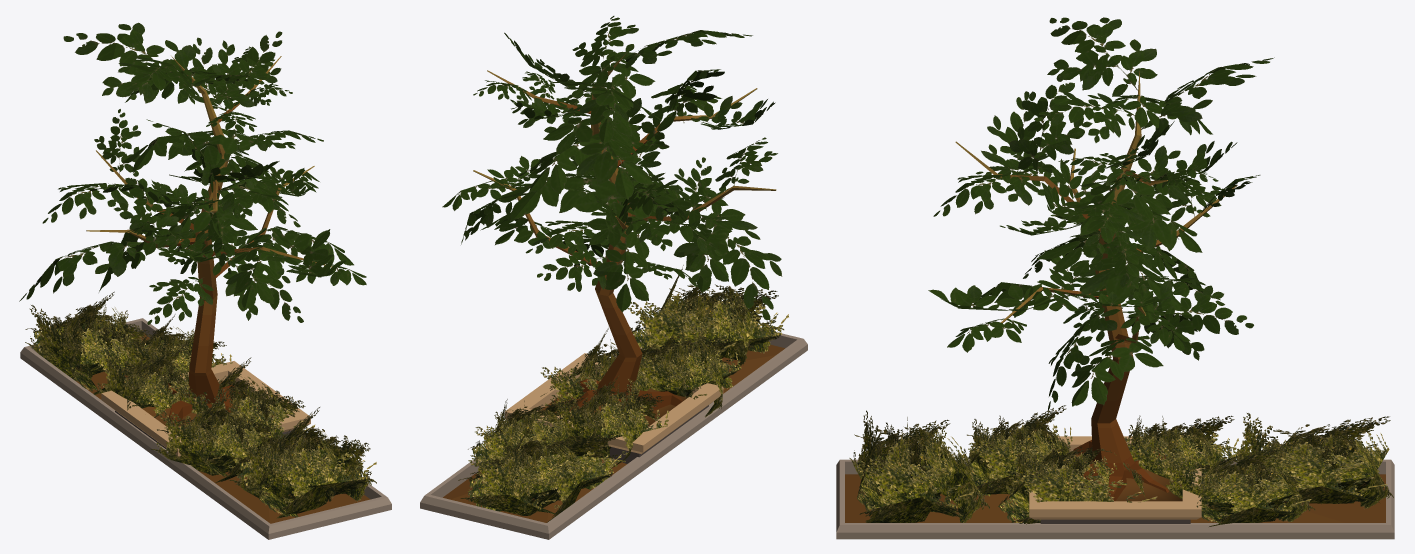
Rendered from Tree&Bush.fbx.
3 renders of one model, left to right at view 1: azimuth 30°, elevation 25°; view 2: azimuth 150°, elevation 25°; view 3: azimuth 270°, elevation 25°, orthographic. The views are drawn at different scales.
Parts seen in each view (by area): view 1: Tree, Bushes01; view 2: Tree, Bushes01; view 3: Tree, Bushes01.
Boxes of the visible parts, left/top/right/bottom form: Tree: left=19, top=22, right=366, bottom=457; Bushes01: left=20, top=291, right=391, bottom=539; Tree: left=442, top=16, right=782, bottom=463; Bushes01: left=420, top=265, right=807, bottom=539; Tree: left=928, top=17, right=1274, bottom=523; Bushes01: left=836, top=405, right=1394, bottom=539.
Bounding box in the file's own units: 840 × 1027 × 1183.
